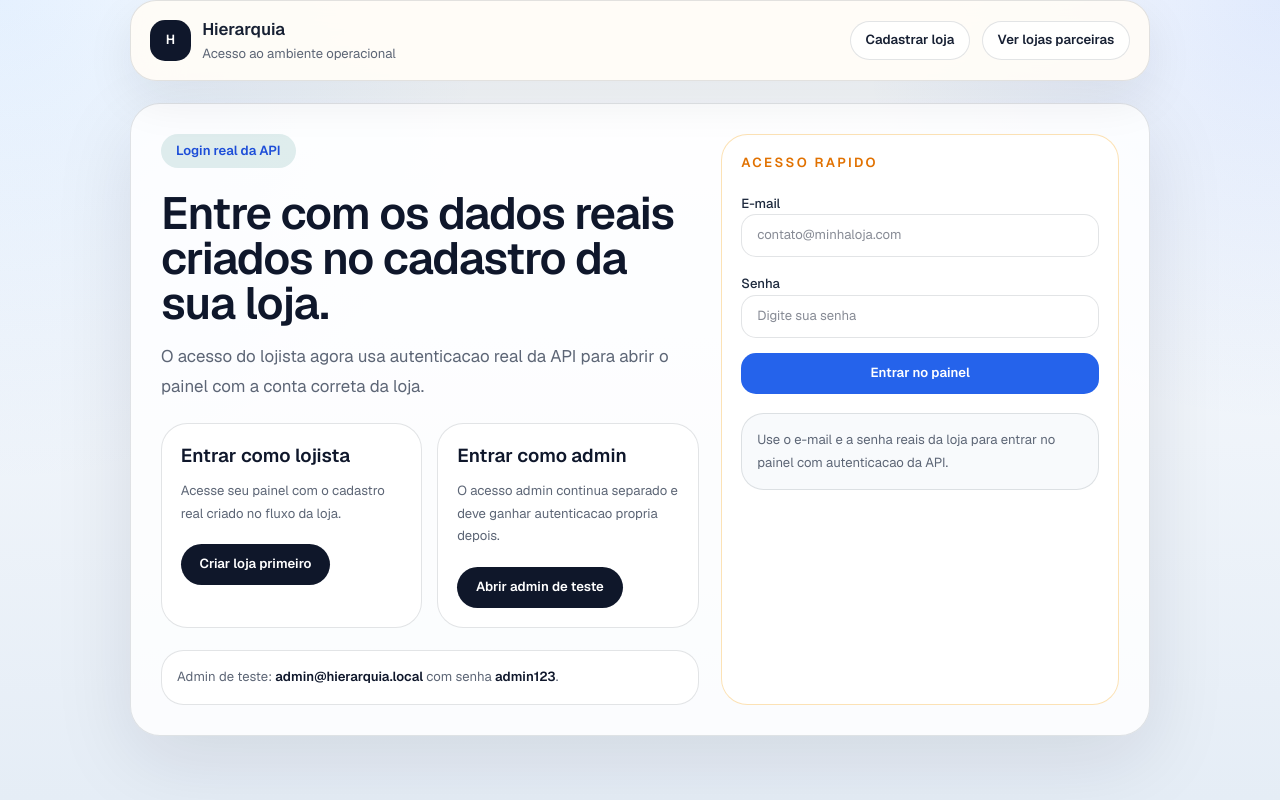
Test: LoginPage › deve autenticar o lojista e redirecionar para o painel
Type "RENATA@ATELIESOLAR.COM" into the field labelled "E-mail".
click(920, 236); type("RENATA@ATELIESOLAR.COM")  # box [741, 214, 1099, 257]
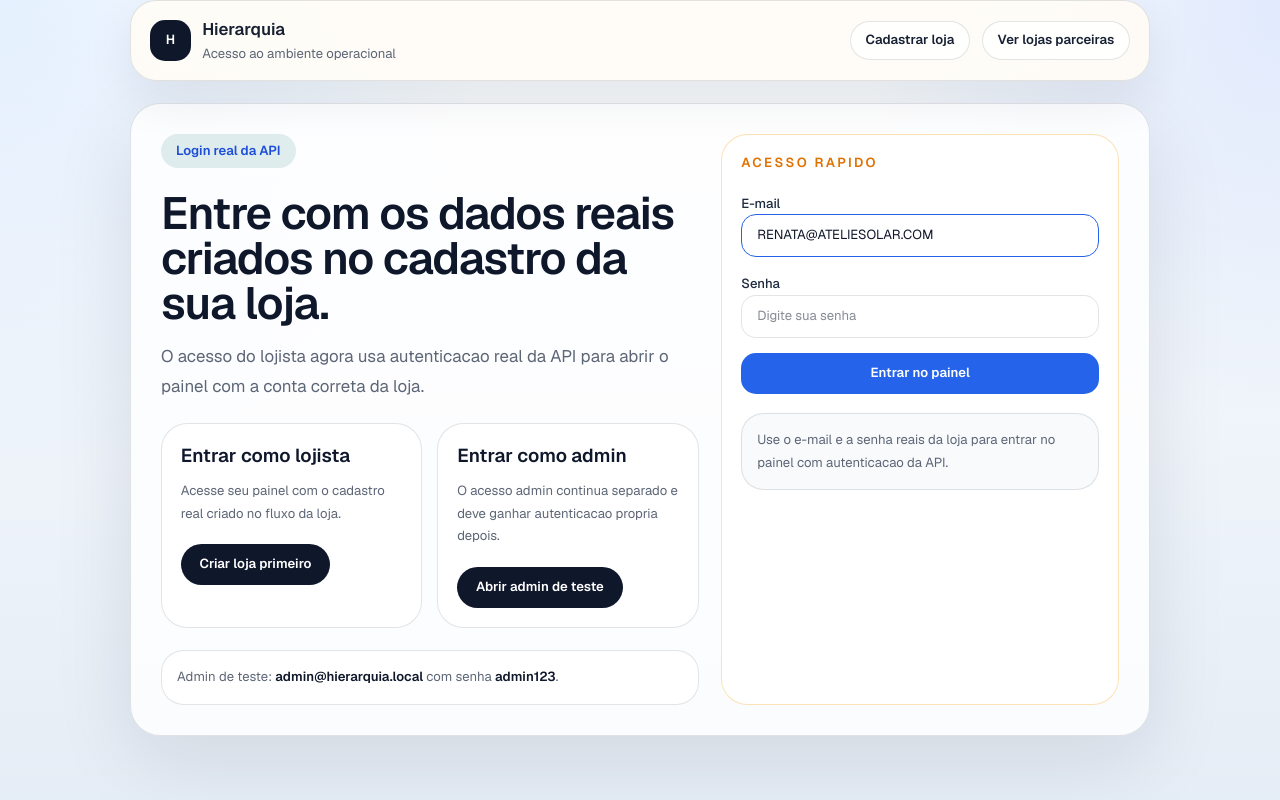
Type "123123@" into the password field labelled "Senha".
click(920, 316); type("123123@")  # box [741, 295, 1099, 338]
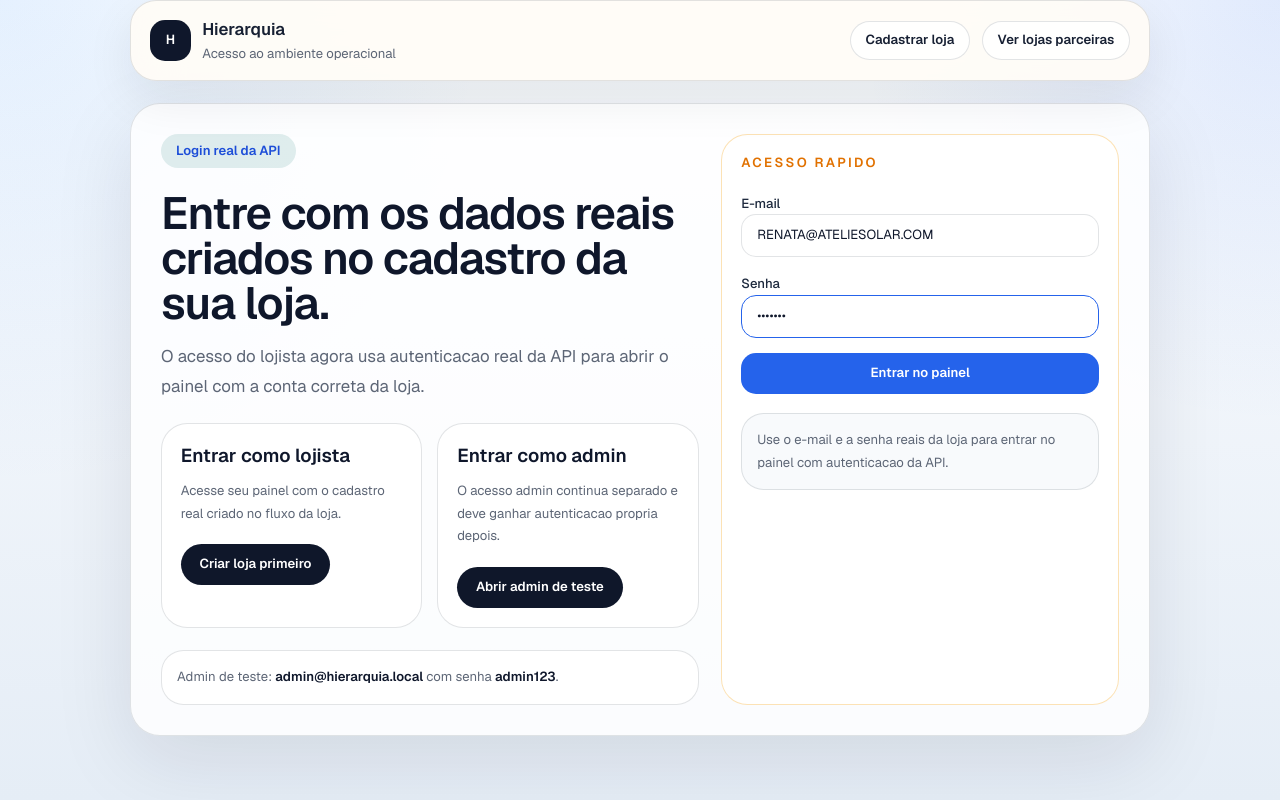
Click the button "Entrar no painel".
click(920, 374)  # box [741, 353, 1099, 394]
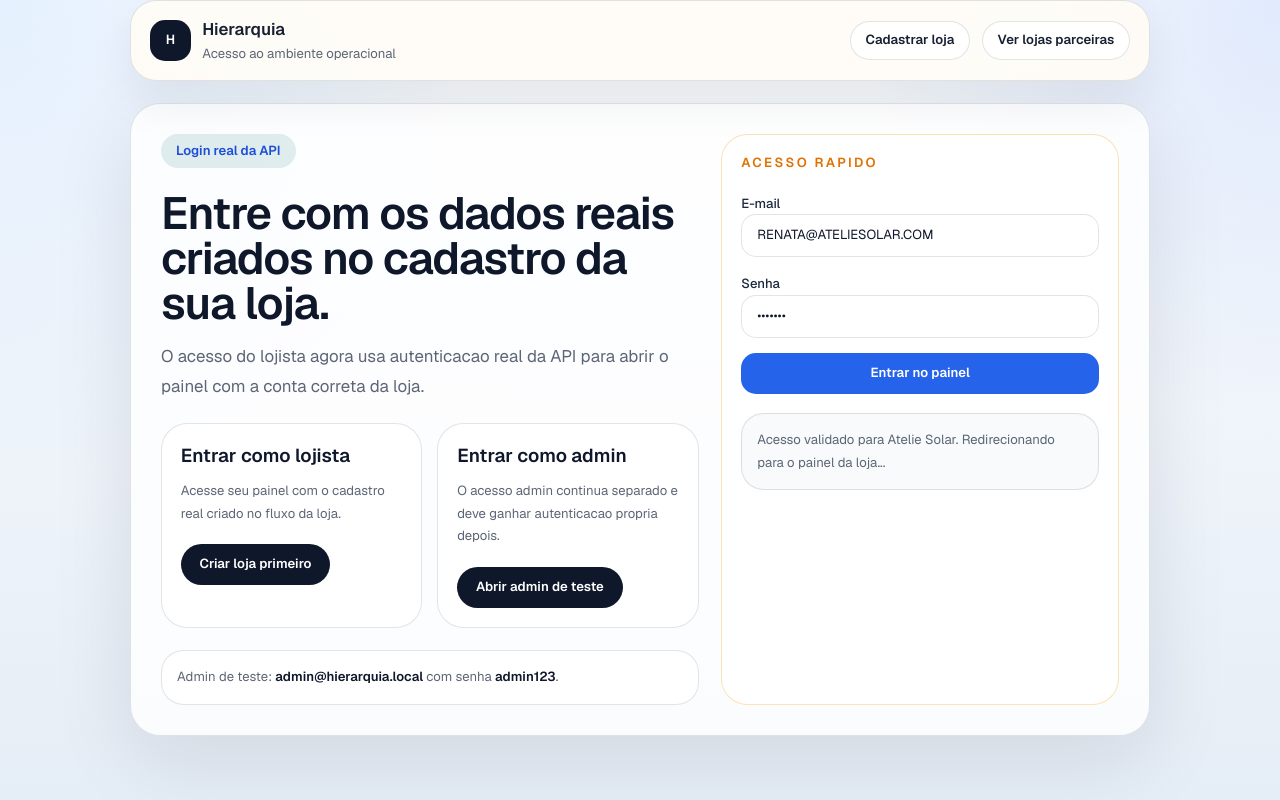
Result: the text "Acesso validado para Atelie Solar. Redirecionando para o painel da loja..." is shown at [741, 413, 1099, 490]
